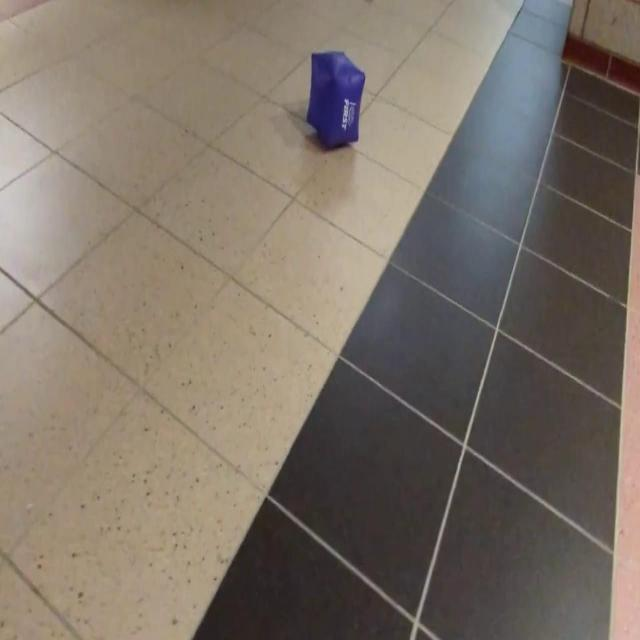frc_cube: (305, 52, 366, 146)
